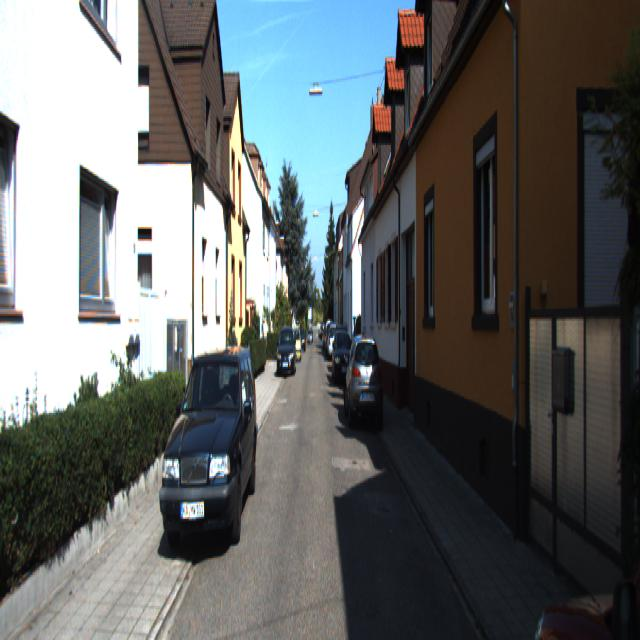Car: (160, 336, 259, 568), (345, 329, 383, 434), (334, 327, 356, 390), (277, 324, 296, 381)
